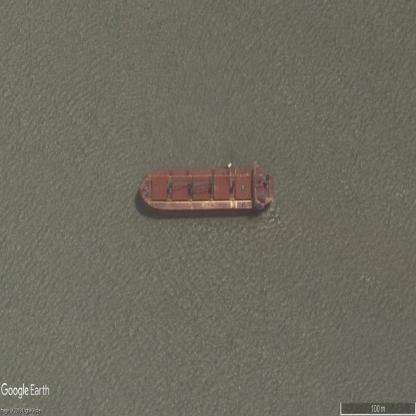ship: (140, 162, 274, 214)
